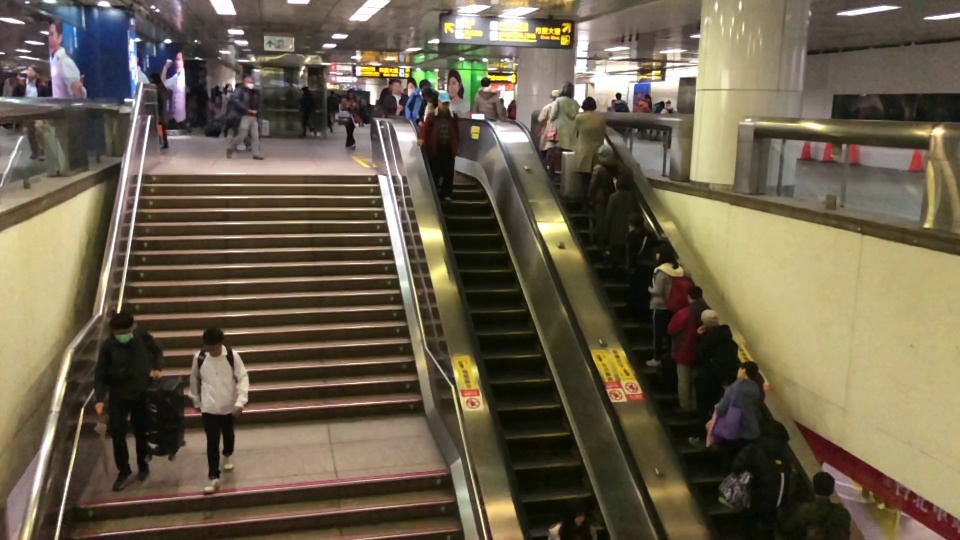person_head: (104, 307, 138, 347), (196, 326, 228, 360), (765, 419, 789, 453), (653, 236, 680, 265), (734, 356, 759, 383), (559, 506, 589, 528), (809, 472, 834, 497), (700, 305, 721, 331), (578, 95, 602, 117), (624, 205, 646, 228), (21, 63, 41, 82), (684, 284, 702, 305), (238, 73, 256, 93), (560, 80, 575, 103), (614, 167, 633, 185), (596, 143, 612, 162), (478, 74, 495, 91), (439, 92, 453, 112), (416, 79, 430, 97), (611, 91, 628, 105), (340, 86, 355, 100), (146, 74, 162, 87), (389, 79, 403, 93), (547, 87, 560, 100), (659, 97, 671, 111), (430, 90, 439, 107), (635, 95, 649, 104), (6, 73, 16, 85), (407, 79, 415, 93), (224, 83, 232, 93), (301, 86, 308, 95), (329, 90, 335, 98)
person_vbox: (92, 306, 165, 492), (183, 326, 253, 495), (736, 418, 805, 527), (688, 304, 742, 437), (697, 356, 766, 457), (645, 234, 693, 368), (669, 284, 707, 410), (782, 472, 851, 540), (421, 93, 461, 206), (222, 71, 270, 164), (9, 64, 47, 158), (571, 96, 608, 188), (602, 166, 636, 250), (549, 79, 577, 166), (616, 202, 651, 270), (587, 139, 613, 229), (144, 73, 172, 150), (537, 85, 563, 165), (473, 70, 509, 119), (543, 506, 593, 540), (335, 87, 359, 149), (652, 94, 678, 148), (605, 88, 631, 135), (297, 86, 317, 138), (418, 89, 441, 130), (628, 94, 652, 132), (384, 77, 405, 119), (411, 79, 432, 119), (397, 79, 417, 116), (326, 90, 338, 133), (220, 83, 232, 115), (2, 72, 17, 97)
